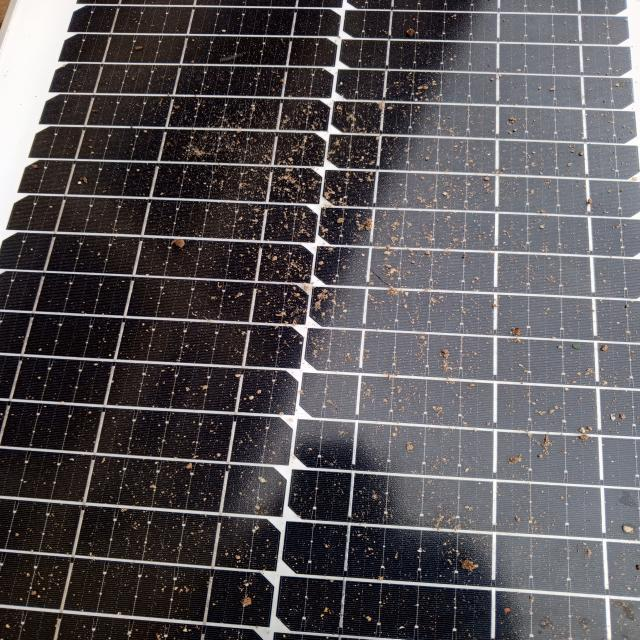Surface Contaminant: (31, 86, 617, 637)
